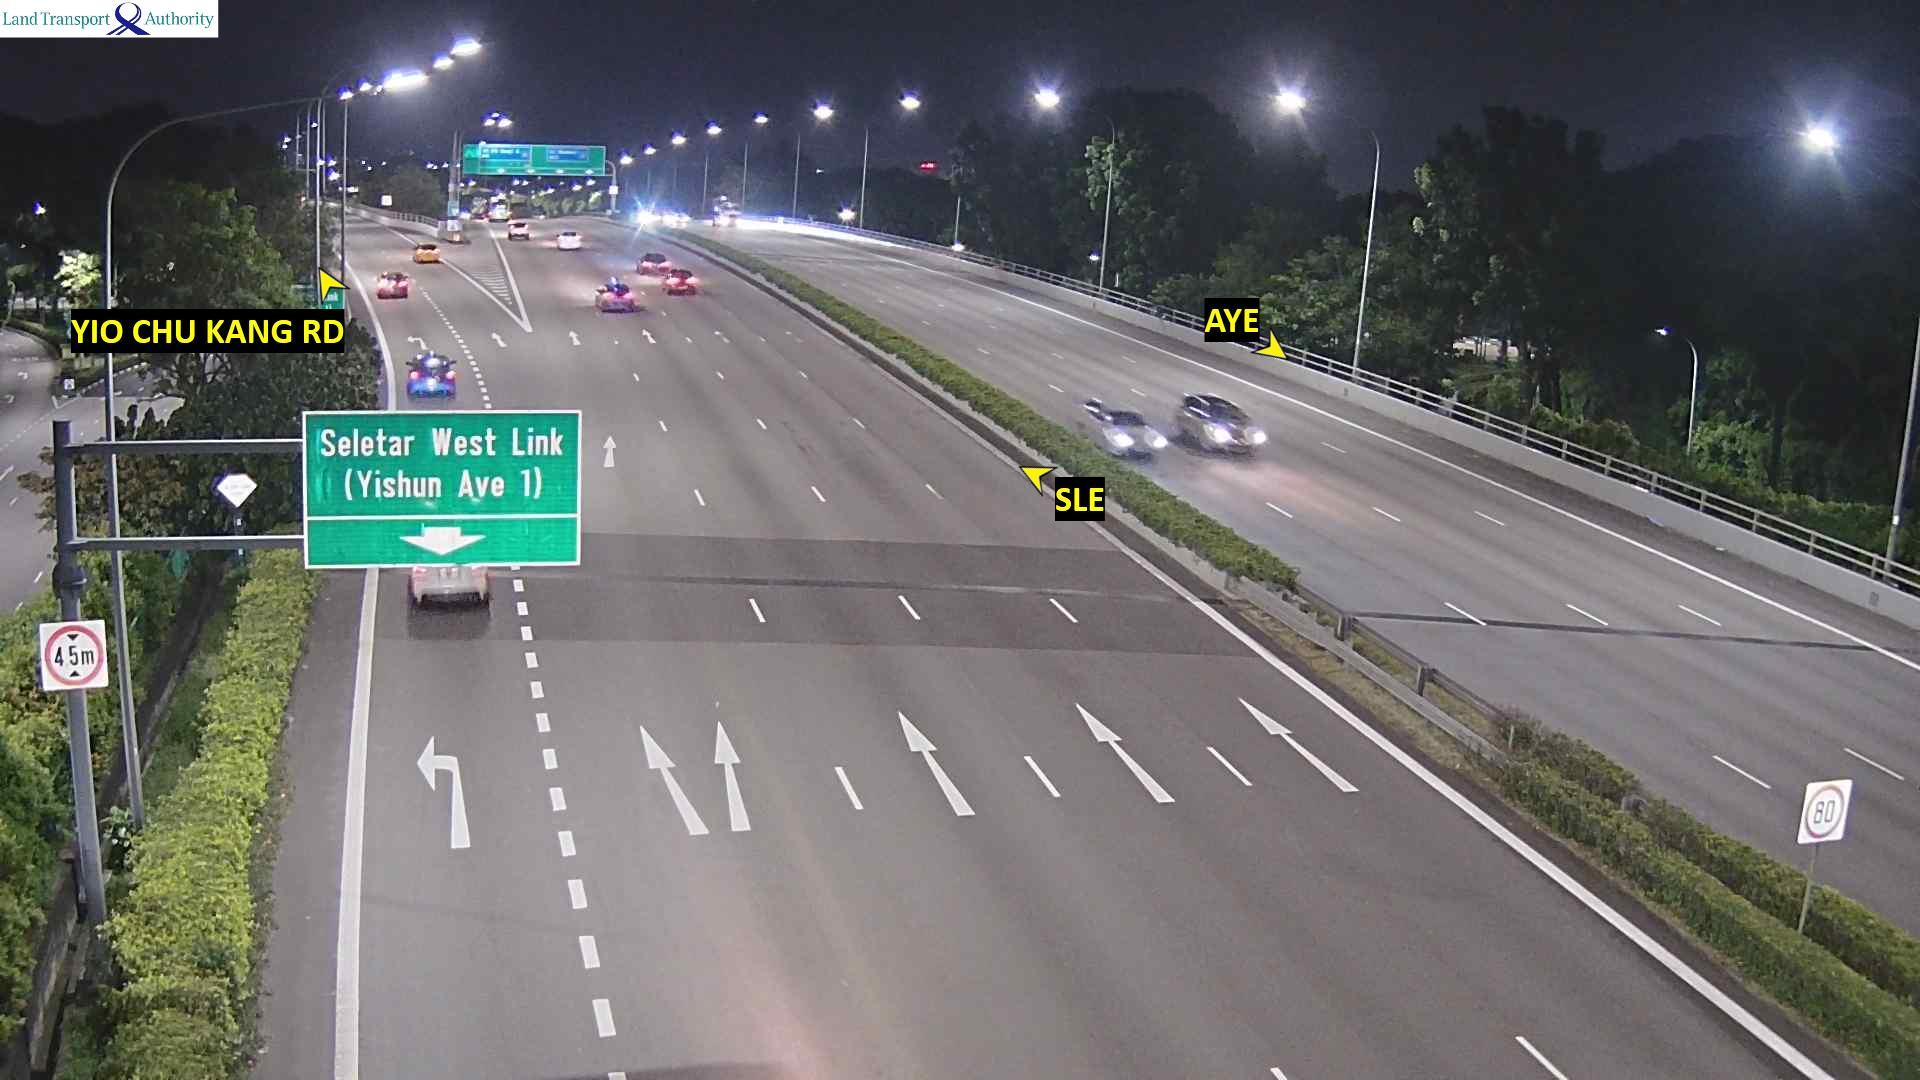cars: (1174, 392, 1267, 455), (1081, 396, 1167, 460), (407, 561, 490, 608), (404, 349, 456, 397), (593, 277, 636, 312), (374, 269, 410, 298), (662, 268, 698, 295), (705, 210, 741, 237), (636, 251, 672, 274), (412, 240, 439, 263), (555, 229, 582, 250), (506, 218, 529, 239)
trucks: (487, 195, 517, 226), (466, 195, 490, 220)
